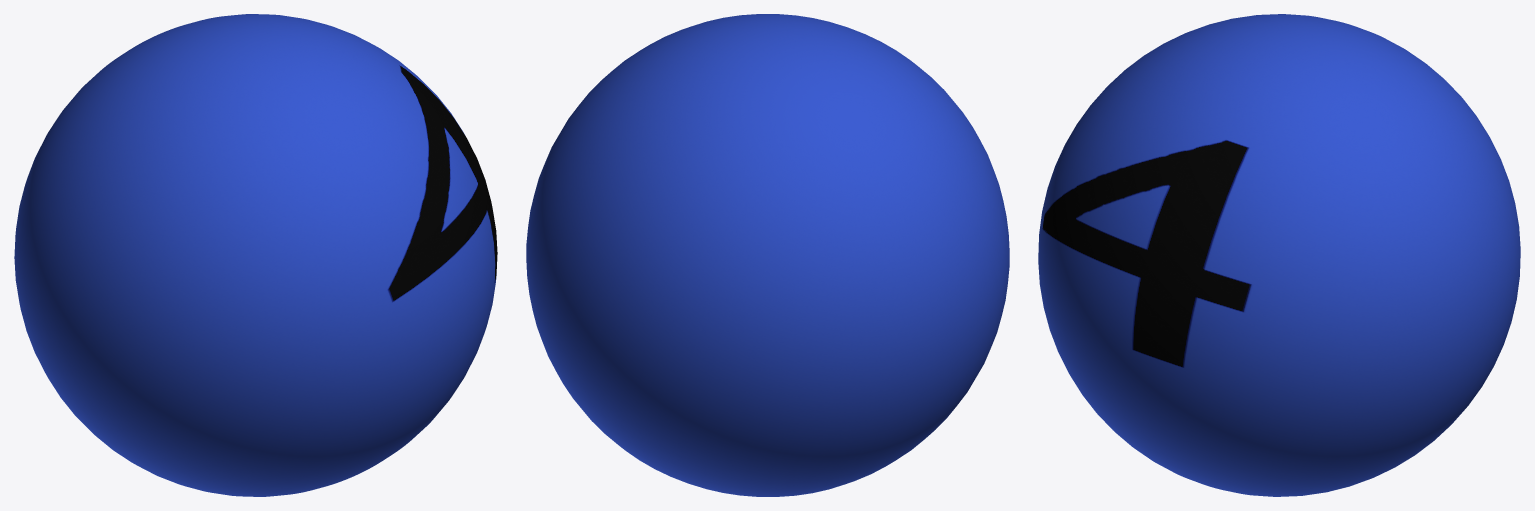
The model's file is 4bil.obj.
The picture shows the model from 3 angles, left to right: view 1: azimuth 30°, elevation 25°; view 2: azimuth 150°, elevation 25°; view 3: azimuth 270°, elevation 25°; orthographic projection.
Visible parts, largest first — view 1: Sphere; view 2: Sphere; view 3: Sphere.
Part boxes in pixels (x1,y1,x2,y2): Sphere: (14,14,497,496); Sphere: (526,14,1009,496); Sphere: (1038,14,1520,496).
Size of the model in its own units: 2 by 2 by 2.
